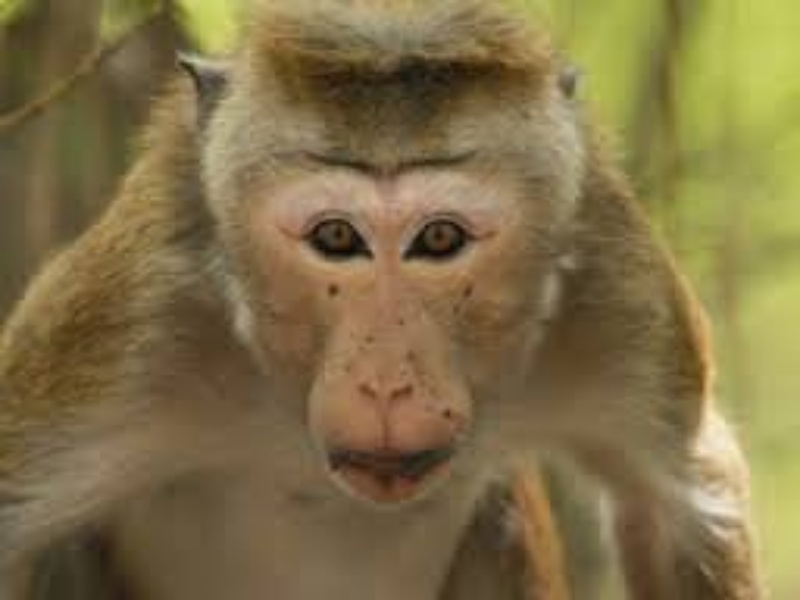monkey: (66, 1, 738, 580)
